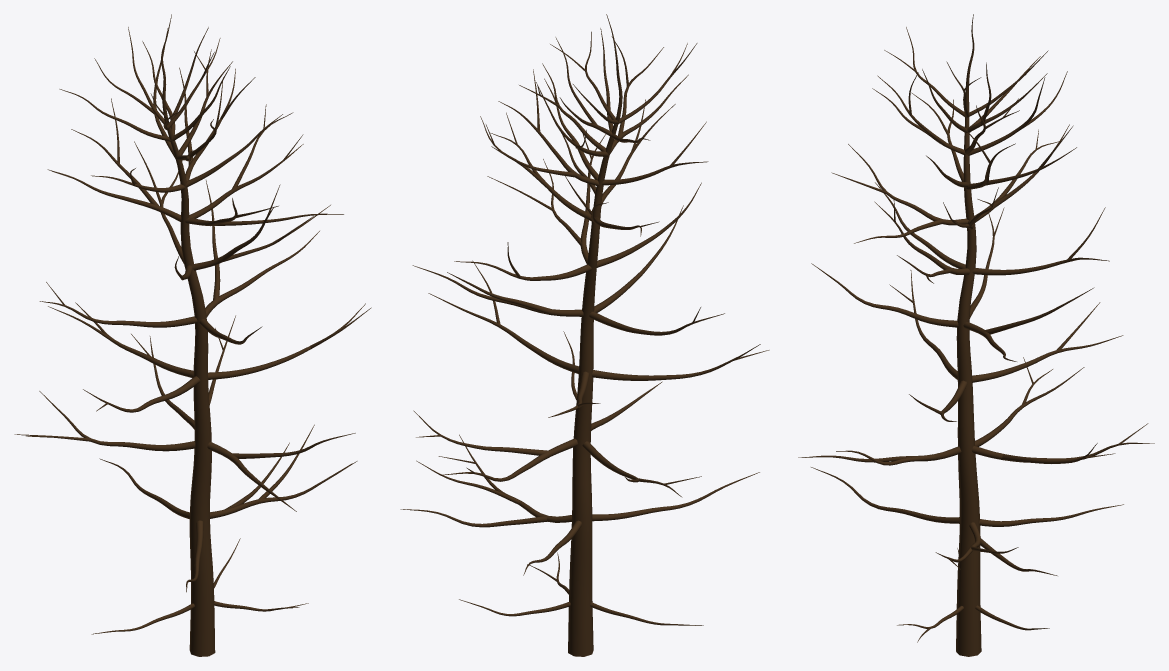
Rendered from TallPineTree.fbx.
3 renders of one model, left to right at view 1: azimuth 30°, elevation 25°; view 2: azimuth 150°, elevation 25°; view 3: azimuth 270°, elevation 25°, orthographic. The views are drawn at different scales.
Visible parts, largest first — view 1: TallPineNoLeaves; view 2: TallPineNoLeaves; view 3: TallPineNoLeaves.
Boxes of the visible parts, box(x1,y1,x2,y2) form: TallPineNoLeaves: box(14, 14, 371, 656); TallPineNoLeaves: box(400, 14, 769, 656); TallPineNoLeaves: box(798, 14, 1154, 656).
Bounding box in the file's own units: 266 × 272 × 524.
